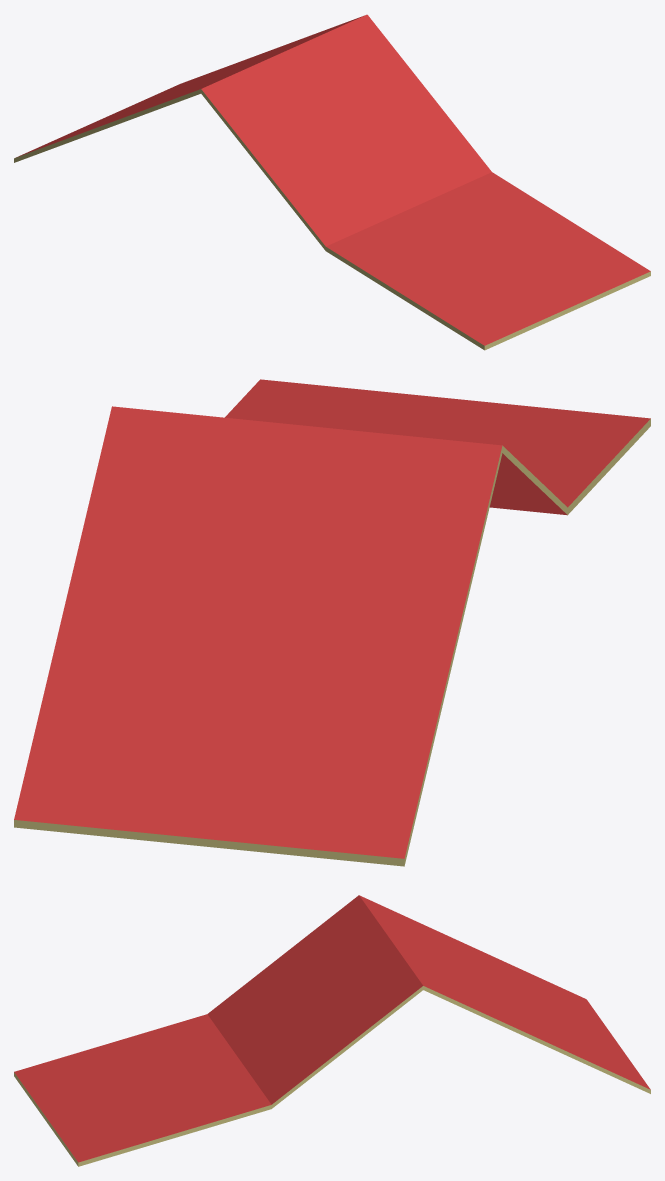
3 renders of one model, top to bottom at view 1: azimuth 30°, elevation 25°; view 2: azimuth 150°, elevation 25°; view 3: azimuth 270°, elevation 25°, orthographic. The views are drawn at different scales.
Bounding box in the file's own units: 8.15 × 13.44 × 3.2.
